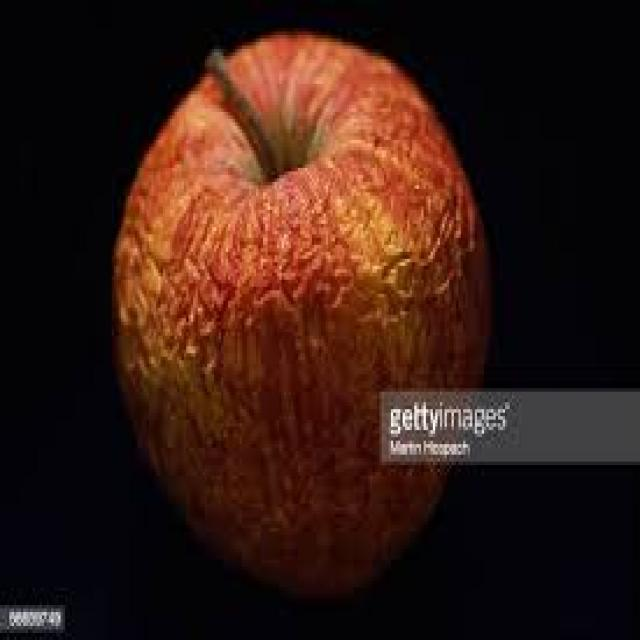Rotten: (111, 44, 488, 617)
